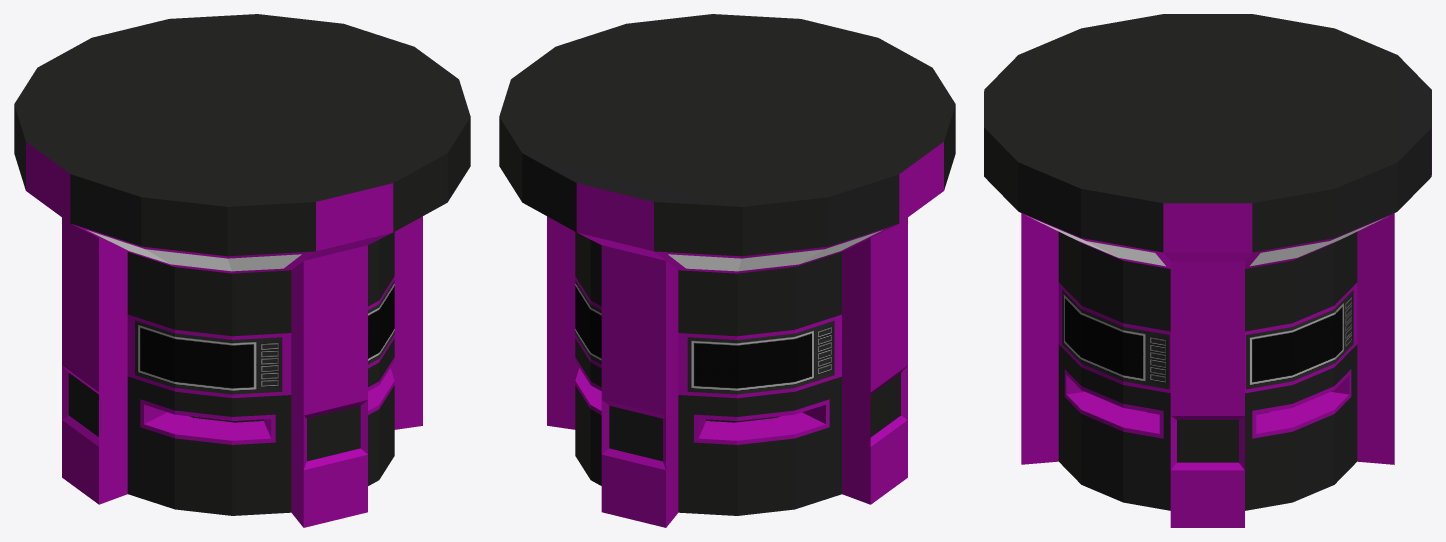
File: Food_Service_Machine.fbx
3 renders of one model, left to right at view 1: azimuth 30°, elevation 25°; view 2: azimuth 150°, elevation 25°; view 3: azimuth 270°, elevation 25°, orthographic.
Visible parts, largest first — view 1: Food_Service_Machine; view 2: Food_Service_Machine; view 3: Food_Service_Machine.
Part boxes in pixels (x1=…): Food_Service_Machine: x1=14, y1=14, x2=470, y2=527; Food_Service_Machine: x1=499, y1=14, x2=955, y2=527; Food_Service_Machine: x1=984, y1=14, x2=1431, y2=527.
Bounding box in the file's own units: 5.96 × 5.96 × 5.
